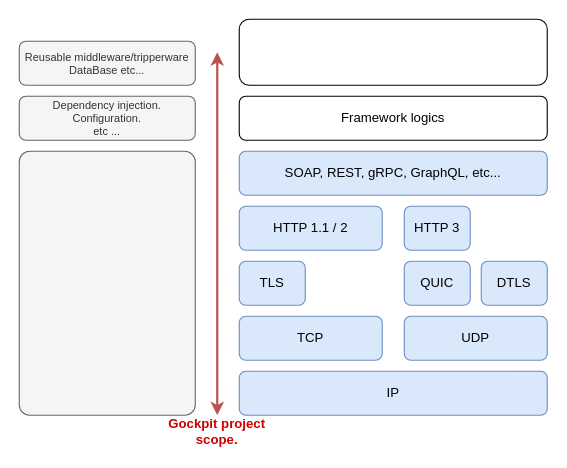
This 567x468 diagram has some shape labels left out. Each missing label, with the box of its shape:
Bussiness logics: (238, 18, 547, 85)
Server Client Proxy Security etc...: (18, 150, 195, 415)
